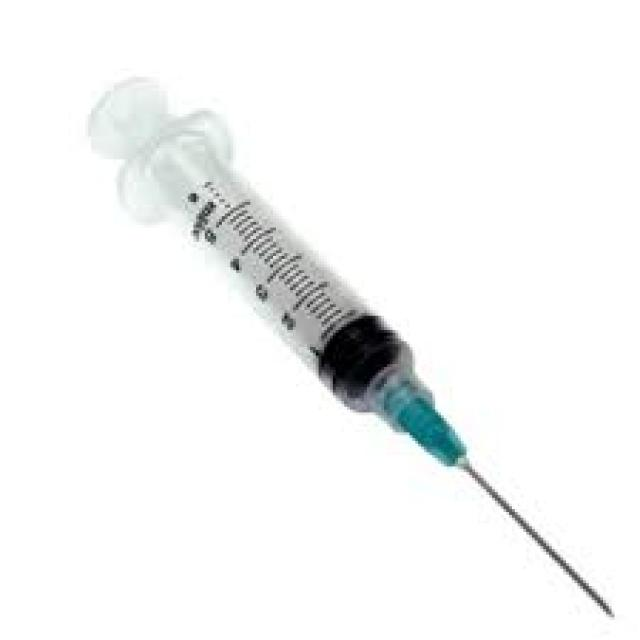syringe: (86, 71, 614, 617)
